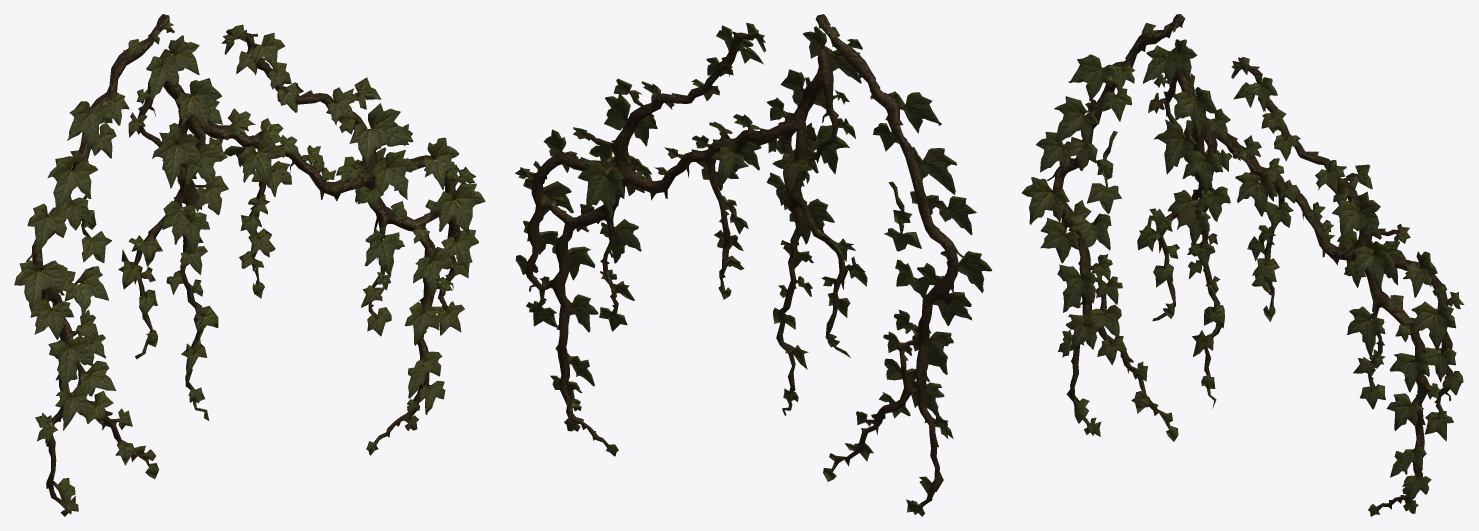
Rendered from Ivy_Vines_02.fbx.
3 views of the same model, side by side, from view 1: azimuth 30°, elevation 25°; view 2: azimuth 150°, elevation 25°; view 3: azimuth 330°, elevation 25° (orthographic). The views are drawn at different scales.
Parts seen in each view (by area): view 1: Ivy_Vines_02; view 2: Ivy_Vines_02; view 3: Ivy_Vines_02.
Boxes of the visible parts, x1=… form: Ivy_Vines_02: x1=14, y1=14, x2=485, y2=516; Ivy_Vines_02: x1=515, y1=14, x2=992, y2=516; Ivy_Vines_02: x1=1021, y1=14, x2=1464, y2=516.
Bounding box in the file's own units: 287 × 287 × 26.75.
1 material, 1 textured.
